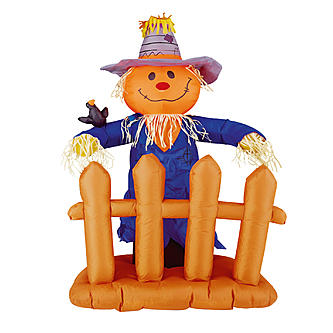person-like: (61, 8, 285, 273)
